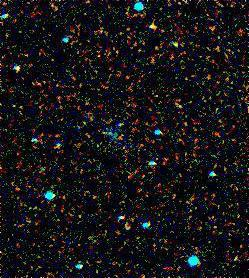star: (112, 212, 142, 242)
